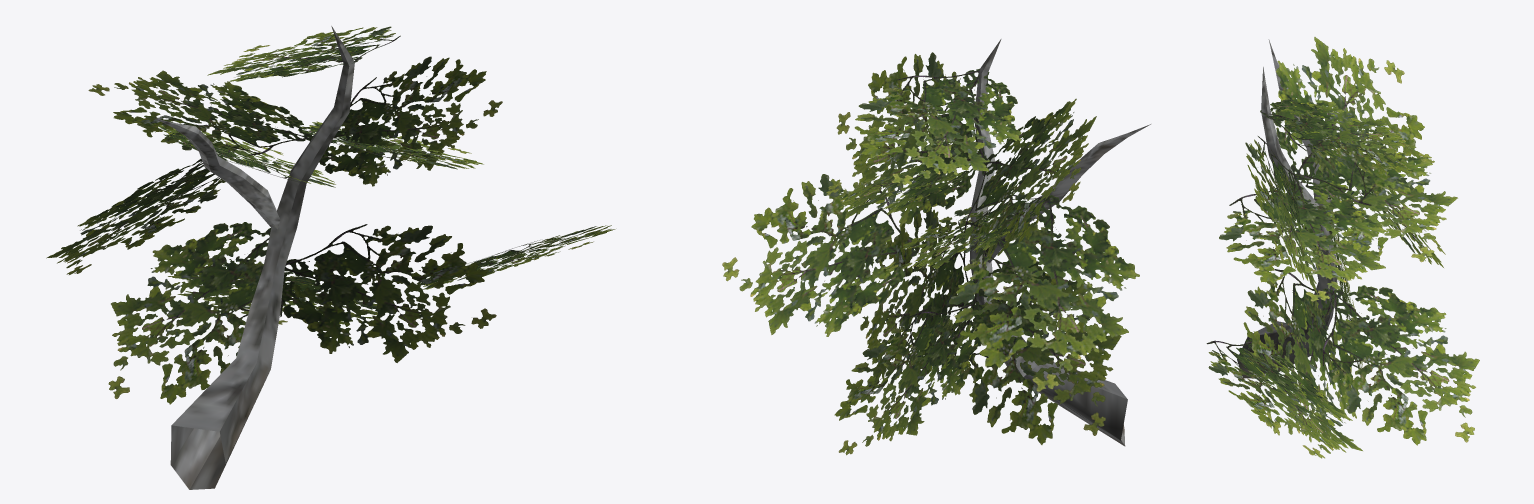
The model's file is tree_k004.FBX.
3 views of the same model, side by side, from view 1: azimuth 30°, elevation 25°; view 2: azimuth 150°, elevation 25°; view 3: azimuth 270°, elevation 25° (orthographic). The views are drawn at different scales.
Parts seen in each view (by area): view 1: tree_k004; view 2: tree_k004; view 3: tree_k004.
Part boxes in pixels (x1=…): tree_k004: x1=46, y1=26, x2=615, y2=489; tree_k004: x1=722, y1=39, x2=1150, y2=455; tree_k004: x1=1206, y1=37, x2=1479, y2=458.
Size of the model in its own units: 5.56 by 4.53 by 3.45.
2 materials, 2 textured.
